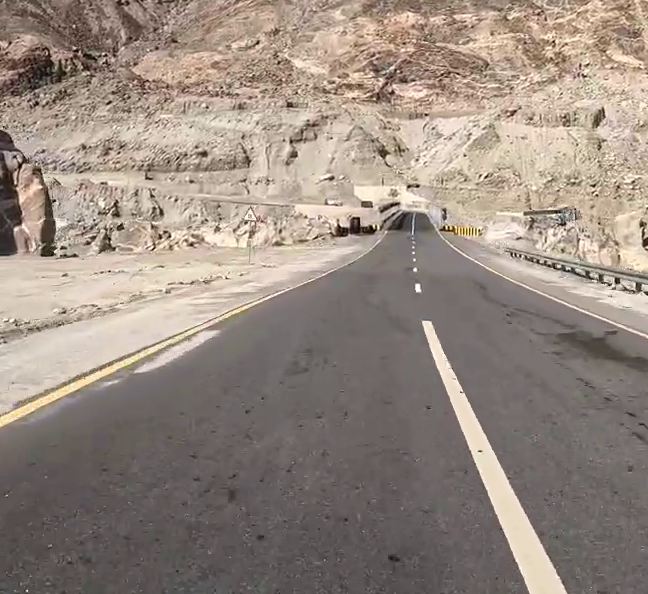left: (294, 273, 633, 575)
